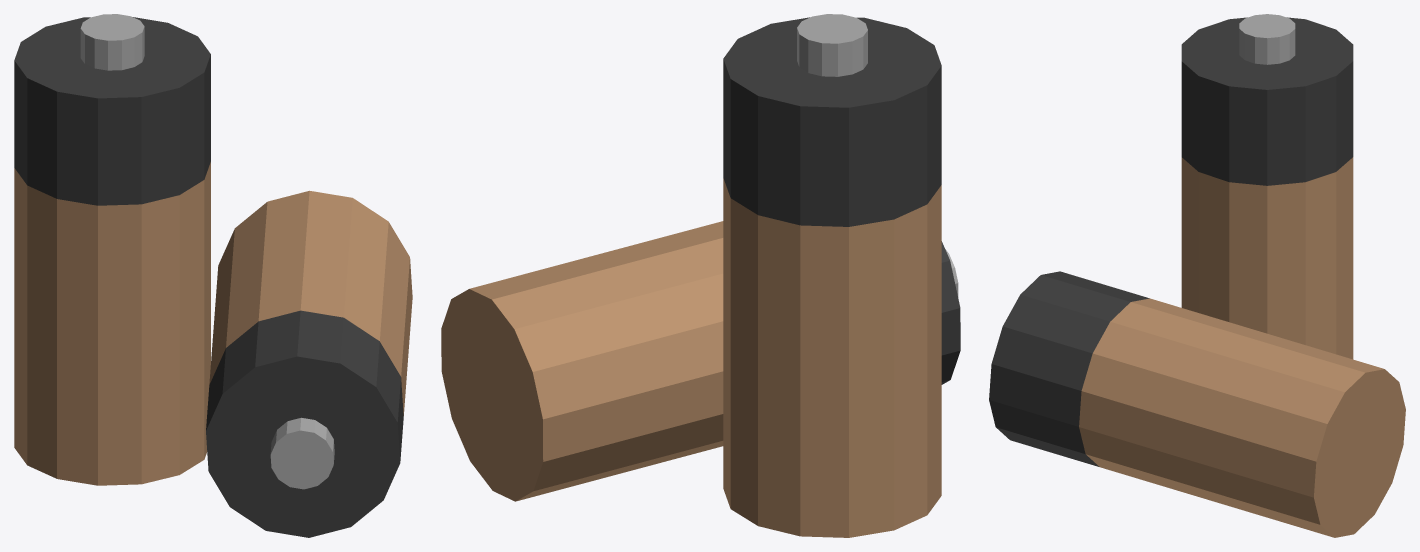
File: Battery.fbx
3 renders of one model, left to right at view 1: azimuth 30°, elevation 25°; view 2: azimuth 150°, elevation 25°; view 3: azimuth 270°, elevation 25°, orthographic. The views are drawn at different scales.
Visible parts, largest first — view 1: pCylinder24; view 2: pCylinder24; view 3: pCylinder24.
Part boxes in pixels (x1,y1,x2,y2): pCylinder24: [14, 14, 412, 537]; pCylinder24: [441, 14, 960, 537]; pCylinder24: [989, 14, 1405, 537].
Size of the model in its own units: 0.9708 by 0.9995 by 0.9537.
